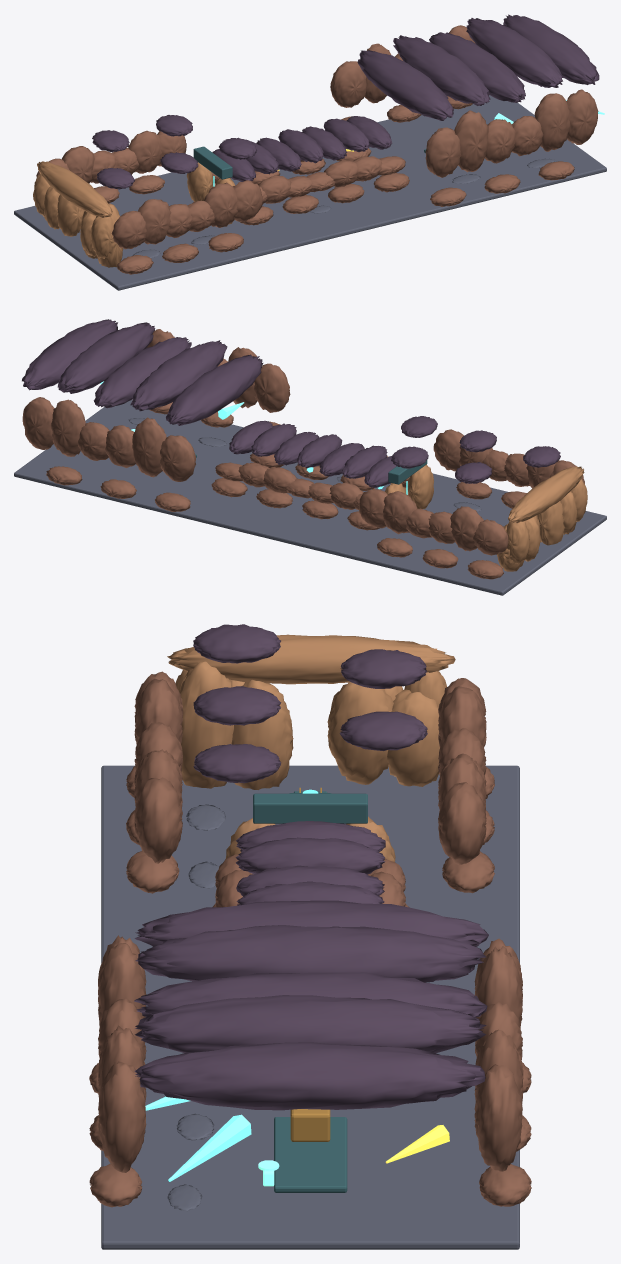
The model's file is resonance_cave_vertical_slice_v3_codex.glb.
3 views of the same model, one above another, from view 1: azimuth 30°, elevation 25°; view 2: azimuth 150°, elevation 25°; view 3: azimuth 270°, elevation 25° (orthographic). The views are drawn at different scales.
Visible parts, largest first — view 1: CaveWalkableFloor, Chamber02_Roof_0, Chamber02_Roof_3, Chamber02_Roof_1, Chamber02_Roof_4, Chamber02_Roof_2, EntranceArchTop, Chamber02_WallNorth_01, Chamber02_WallNorth_04, Chamber02_WallNorth_00, Chamber02_WallNorth_05, Chamber02_WallSouth_00 (+51 smaller); view 2: CaveWalkableFloor, Chamber02_Roof_0, Chamber02_Roof_3, Chamber02_Roof_1, Chamber02_Roof_4, Chamber02_Roof_2, EntranceArchTop, Chamber02_WallSouth_01, Chamber02_WallSouth_04, Chamber02_WallNorth_00, Chamber02_WallSouth_00, Chamber02_WallSouth_05 (+48 smaller); view 3: CaveWalkableFloor, Chamber02_Roof_4, Chamber02_Roof_3, Chamber02_Roof_1, Chamber02_Roof_0, Chamber02_Roof_2, EntranceArchTop, Task02_FreightDeck, Chamber02_WallNorth_05, Chamber02_WallSouth_05, Tunnel_Roof_1, Chamber01_Back_1 (+35 smaller).
Boxes of the visible parts, x1,y1,x2,y2 form: CaveWalkableFloor: [14, 95, 606, 290]; Chamber02_Roof_0: [357, 50, 453, 120]; Chamber02_Roof_3: [466, 18, 562, 87]; Chamber02_Roof_1: [393, 35, 490, 105]; Chamber02_Roof_4: [503, 14, 599, 84]; Chamber02_Roof_2: [429, 32, 525, 102]; EntranceArchTop: [37, 161, 112, 217]; Chamber02_WallNorth_01: [454, 110, 488, 172]; Chamber02_WallNorth_04: [534, 93, 569, 151]; Chamber02_WallNorth_00: [425, 127, 461, 177]; Chamber02_WallNorth_05: [566, 89, 598, 144]; Chamber02_WallSouth_00: [330, 61, 366, 107]; CaveWalkableFloor: [14, 400, 606, 595]; Chamber02_Roof_0: [166, 354, 263, 425]; Chamber02_Roof_3: [57, 322, 155, 393]; Chamber02_Roof_1: [130, 340, 227, 411]; Chamber02_Roof_4: [22, 319, 117, 390]; Chamber02_Roof_2: [93, 337, 191, 408]; EntranceArchTop: [508, 466, 584, 523]; Chamber02_WallSouth_01: [132, 417, 166, 477]; Chamber02_WallSouth_04: [51, 399, 85, 456]; Chamber02_WallNorth_00: [254, 363, 290, 412]; Chamber02_WallSouth_00: [160, 435, 195, 481]; Chamber02_WallSouth_05: [22, 397, 54, 449]; CaveWalkableFloor: [101, 765, 519, 1249]; Chamber02_Roof_4: [134, 1042, 485, 1110]; Chamber02_Roof_3: [135, 995, 486, 1053]; Chamber02_Roof_1: [135, 925, 486, 982]; Chamber02_Roof_0: [134, 900, 488, 947]; Chamber02_Roof_2: [134, 972, 487, 1017]; EntranceArchTop: [167, 634, 455, 684]; Task02_FreightDeck: [274, 1117, 347, 1192]; Chamber02_WallNorth_05: [98, 1061, 146, 1172]; Chamber02_WallSouth_05: [474, 1064, 522, 1171]; Tunnel_Roof_1: [235, 837, 385, 874]; Chamber01_Back_1: [327, 681, 393, 784].
Size of the model in its own units: 112 by 22.98 by 42.28.
